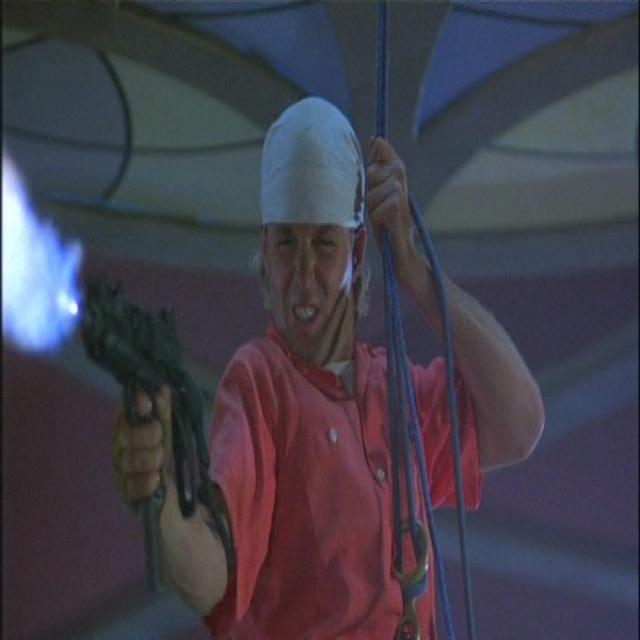rifle: (82, 263, 214, 597)
